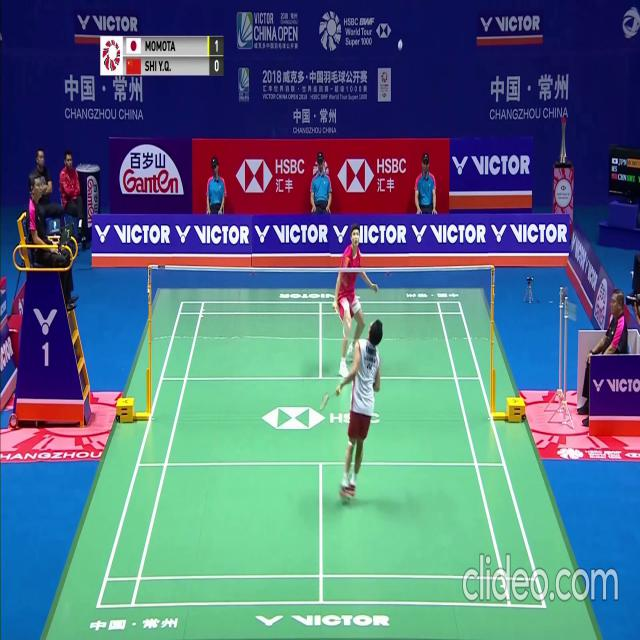Shuttlecock: (399, 38, 403, 45)
